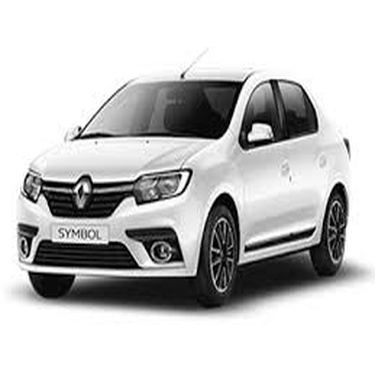car: (14, 49, 359, 309)
